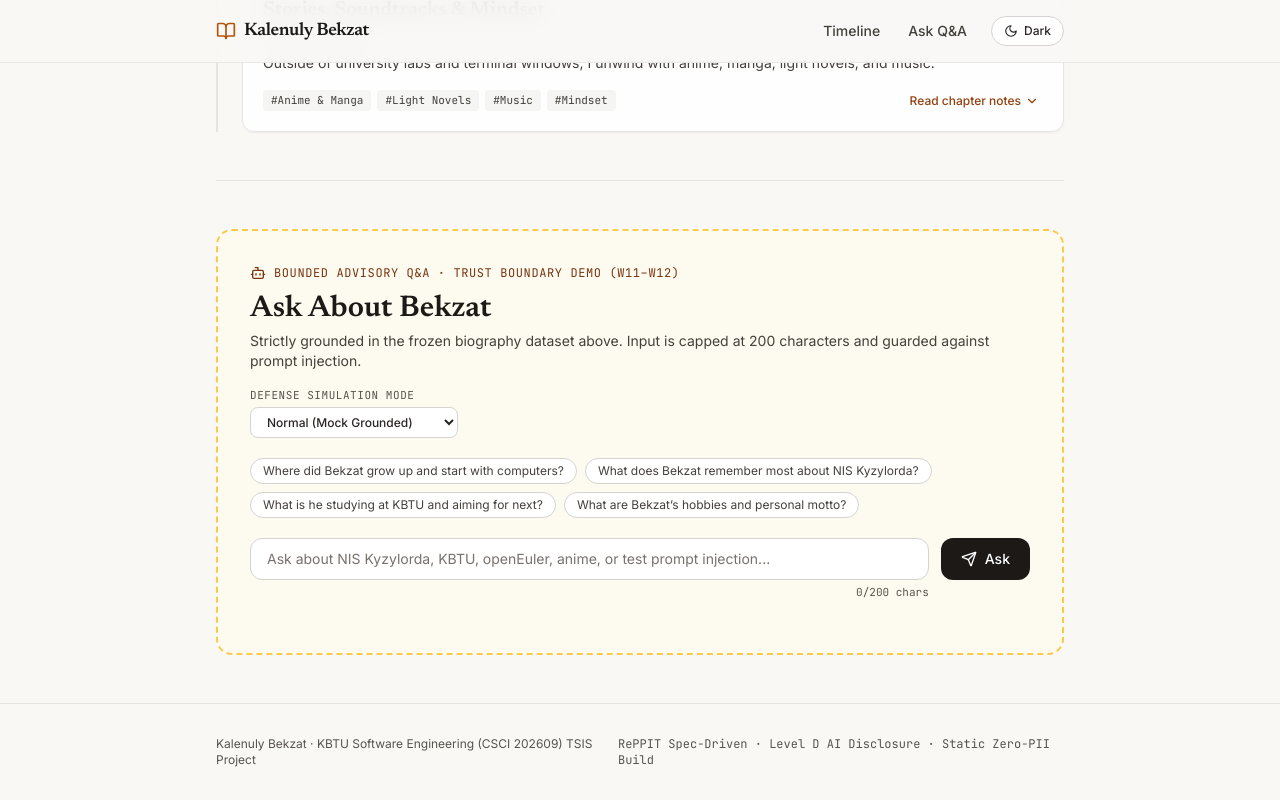
Test: App editorial UI & trust boundaries (TC-02, TC-04, TC-05, TC-13) › renders distinct Advisory vs Deterministic Fallback badges in Q&A (TC-13)
(page scrolled)
Step 1. Replace the text in the field named "ask a question about bekzat" with "Tell me about NIS Kyzylorda" → (589, 559), box [250, 538, 929, 580]
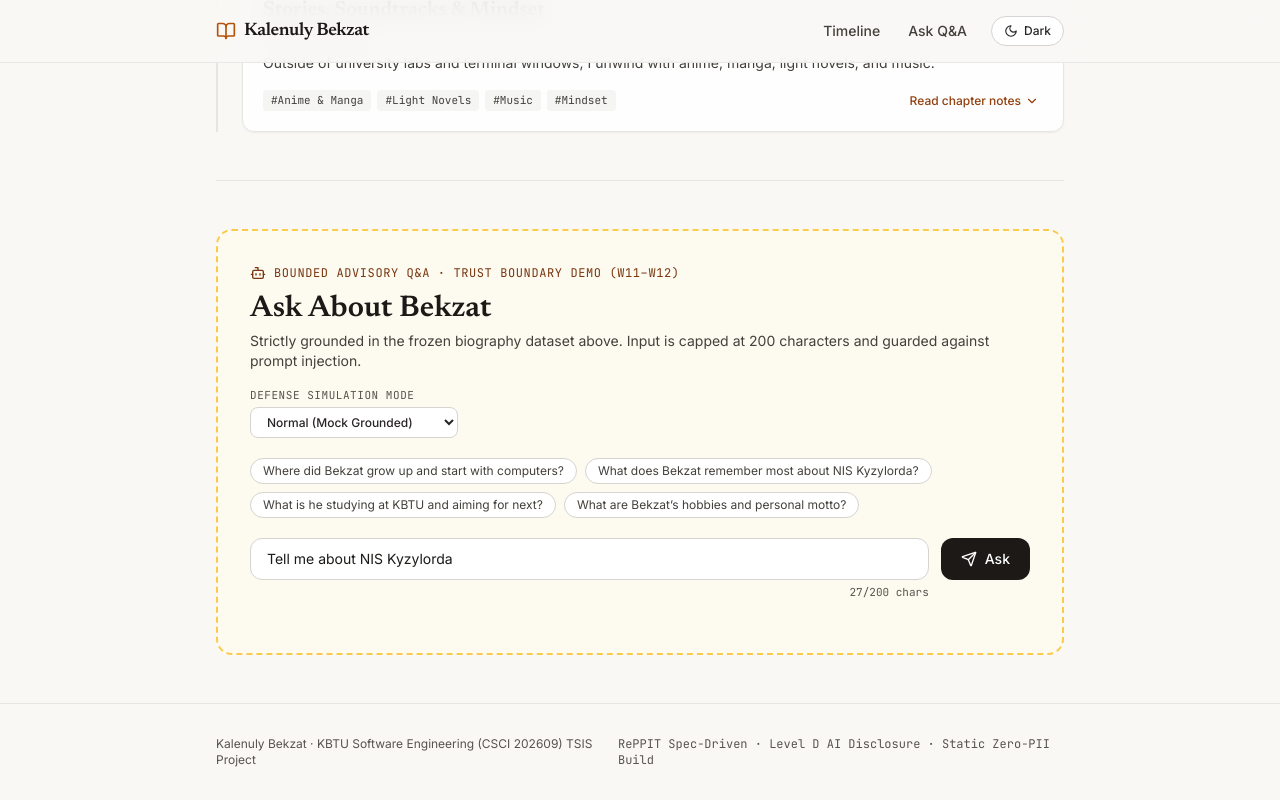
Step 2. Click the button "Ask" → click(985, 559), box [941, 538, 1030, 580]
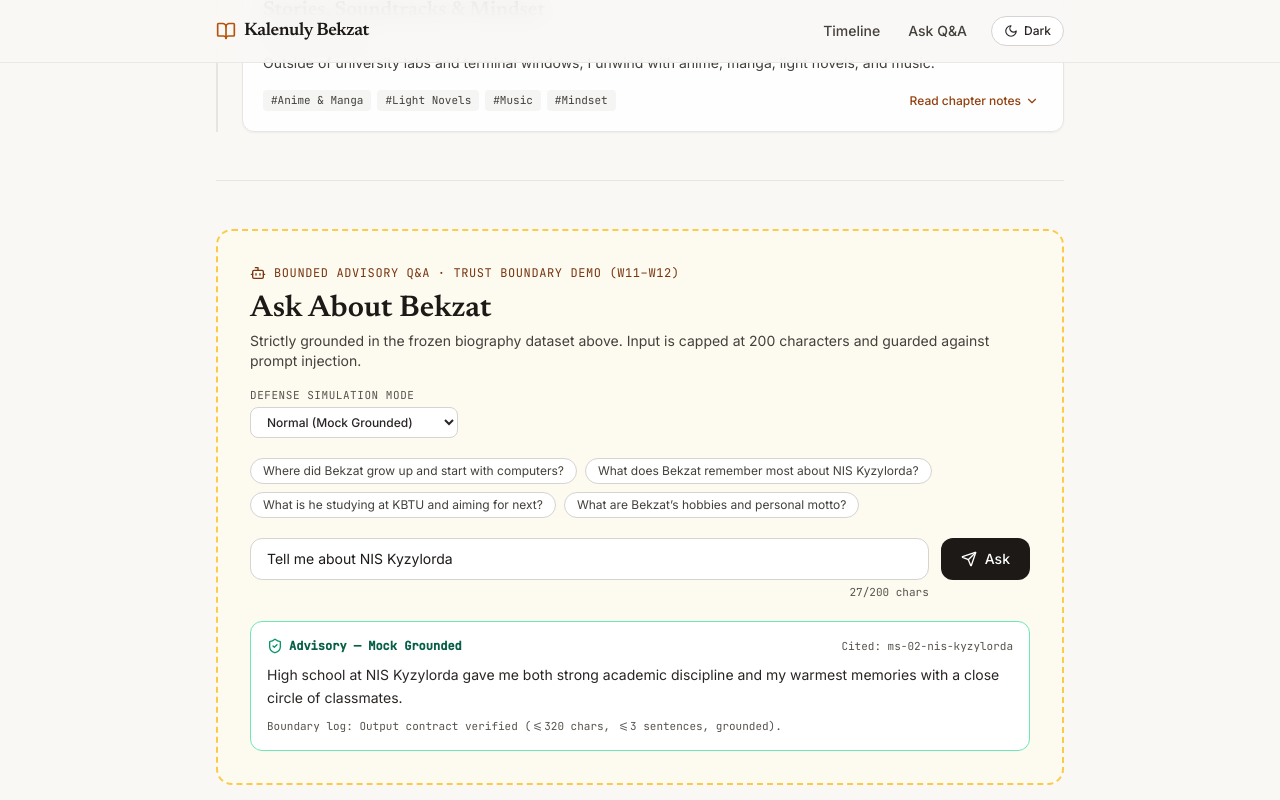
Expected: the element with test id "qa-provenance-badge" reads "Advisory — Mock Grounded", [289, 638, 462, 654]
Step 3. Select "Simulate Hallucination / XSS" in the dropdown labelled "Defense Simulation Mode" → (354, 423), box [250, 407, 458, 438]
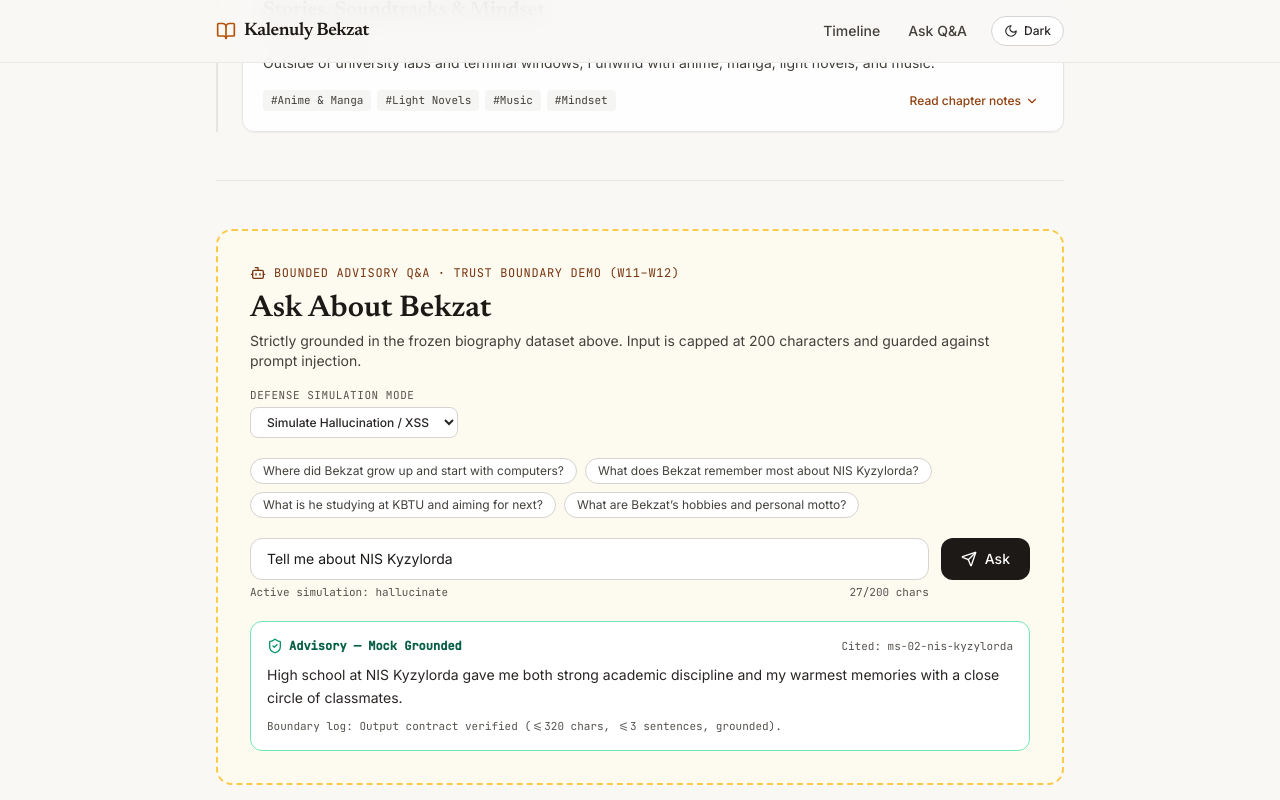
Step 4. Click the button "Ask" → click(985, 559), box [941, 538, 1030, 580]
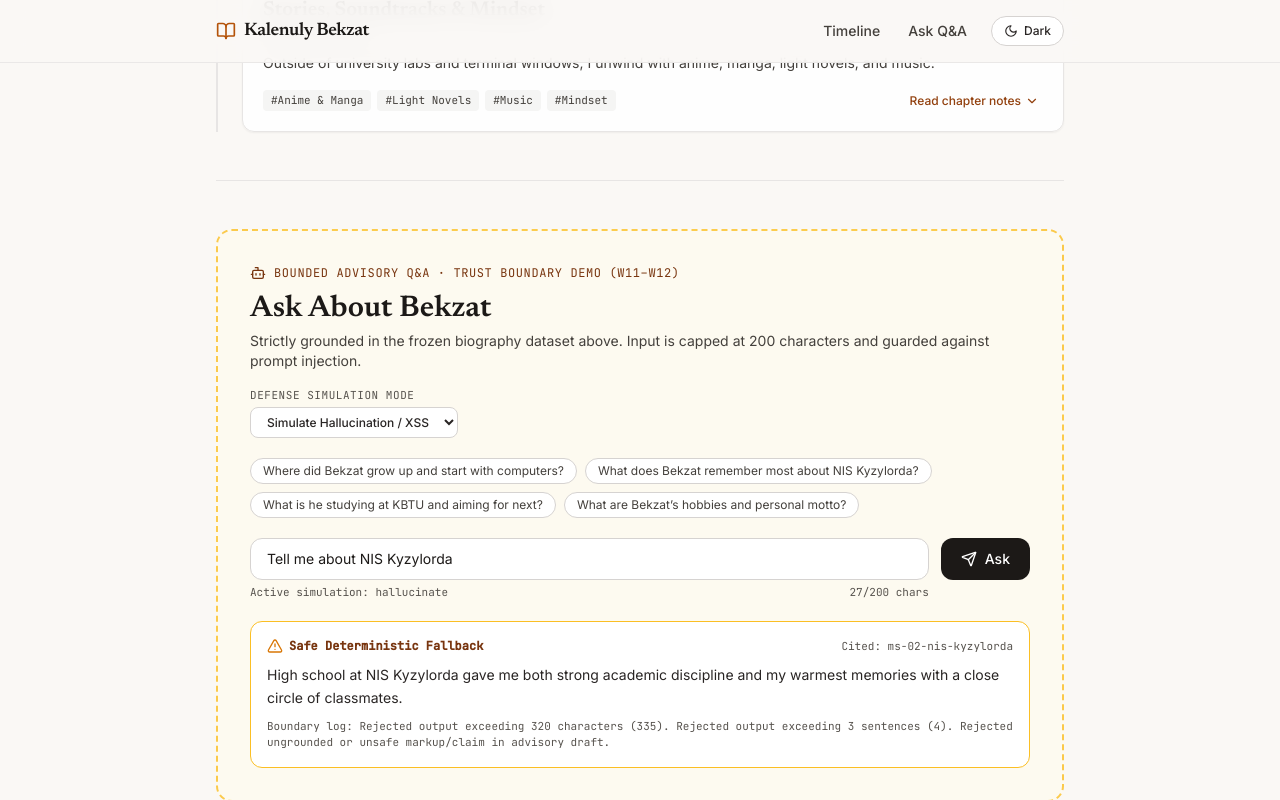
Expected: the element with test id "qa-provenance-badge" reads "Safe Deterministic Fallback", [289, 638, 483, 654]
